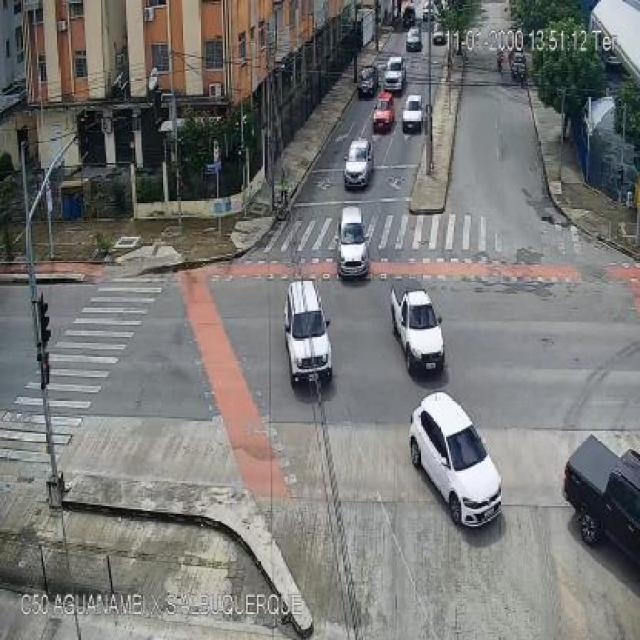Car: (408, 390, 506, 538), (282, 275, 332, 395), (392, 285, 451, 378), (336, 208, 371, 278), (343, 137, 373, 190), (371, 91, 396, 132), (381, 56, 406, 94), (402, 94, 423, 133), (357, 65, 379, 96), (404, 27, 423, 51)
